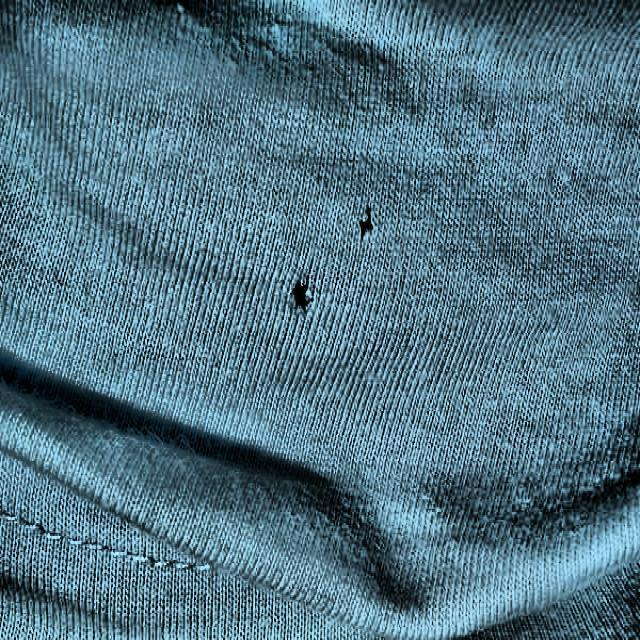cut: (288, 272, 315, 314), (353, 206, 381, 244)
